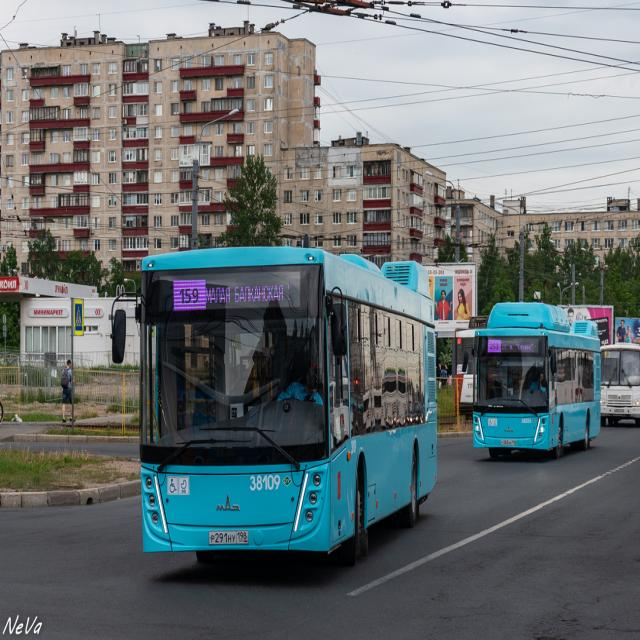number-of-bus: (179, 286, 202, 306)
